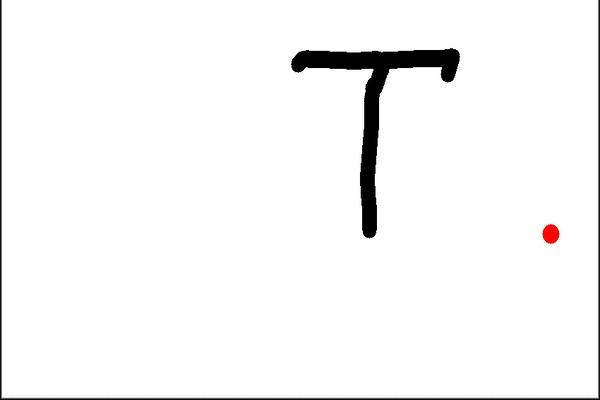T: (289, 42, 452, 240)
